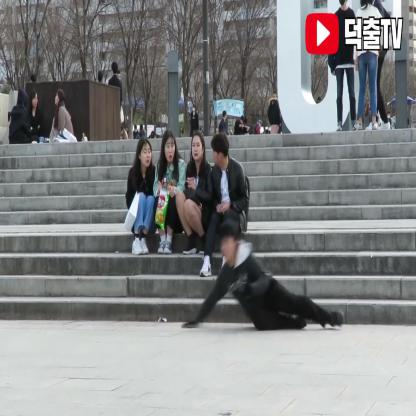Fall_Down: (179, 215, 348, 338)
